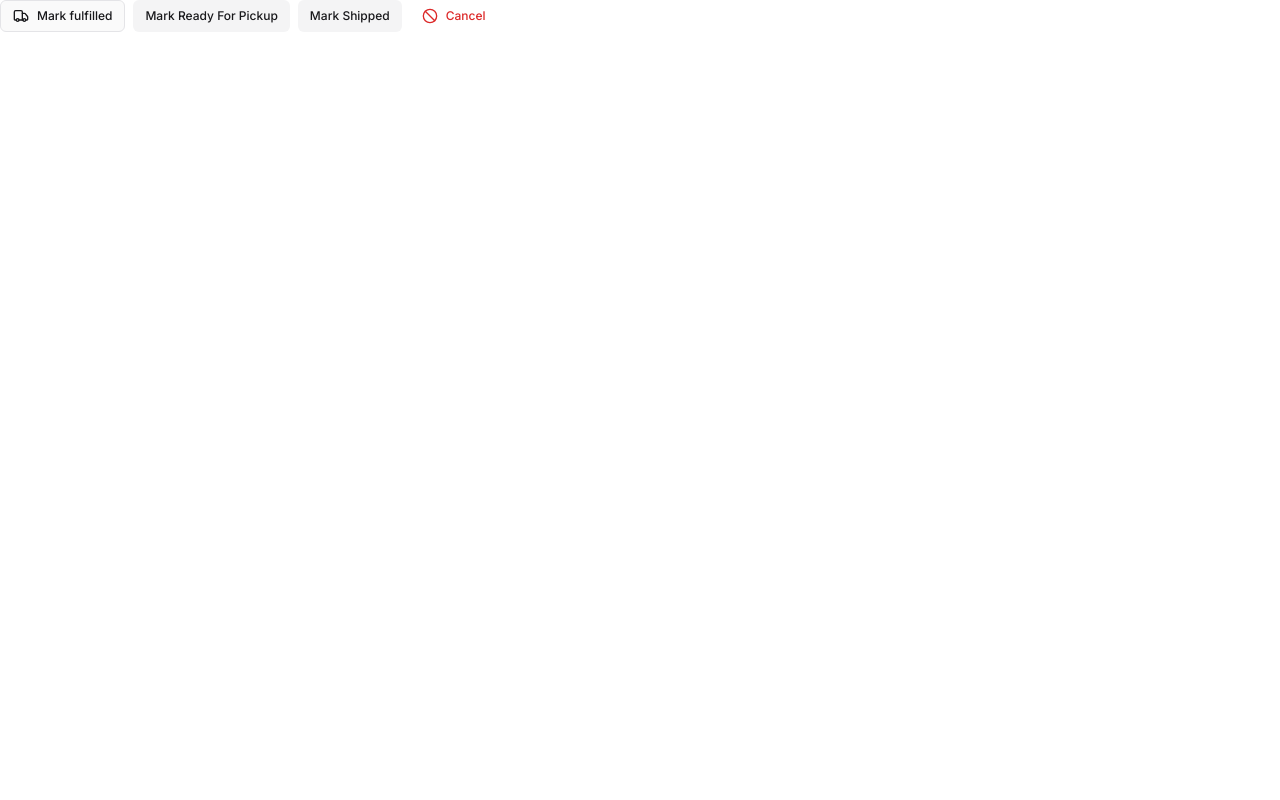
Scenario: shipping prompt › closes without writing when dismissed
Click the button "Mark Shipped". click: coordinates (350, 16)
box: [298,0,402,32]
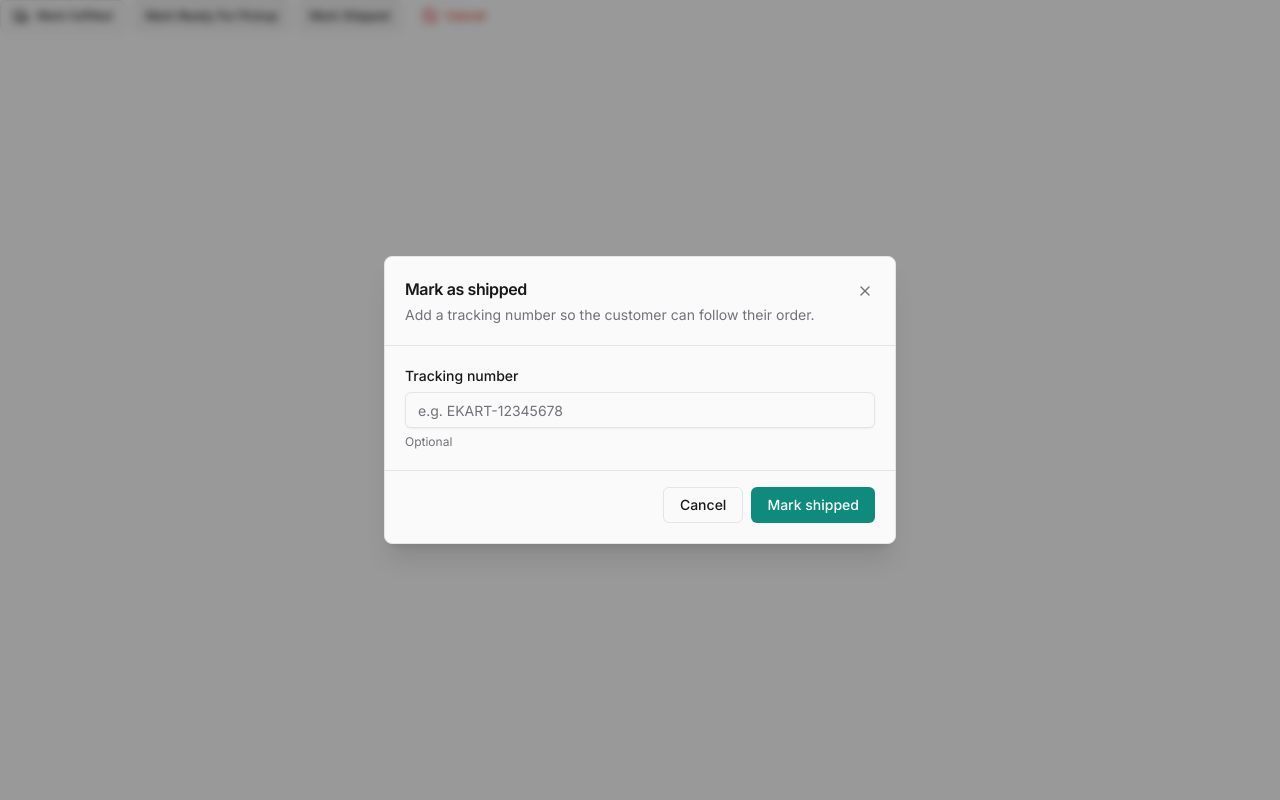
Click the button named "close". click: coordinates (865, 291)
box: [851,277,879,305]
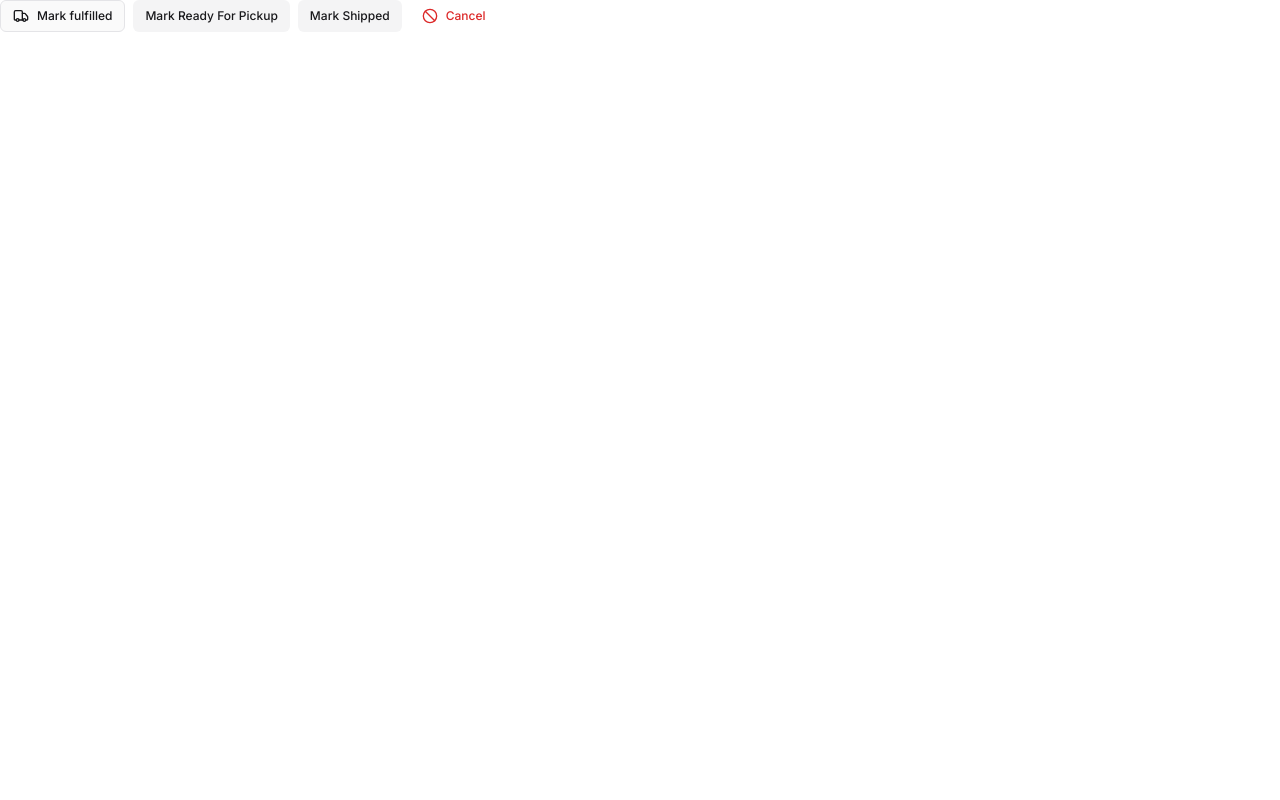
Expected: the dialog is gone
